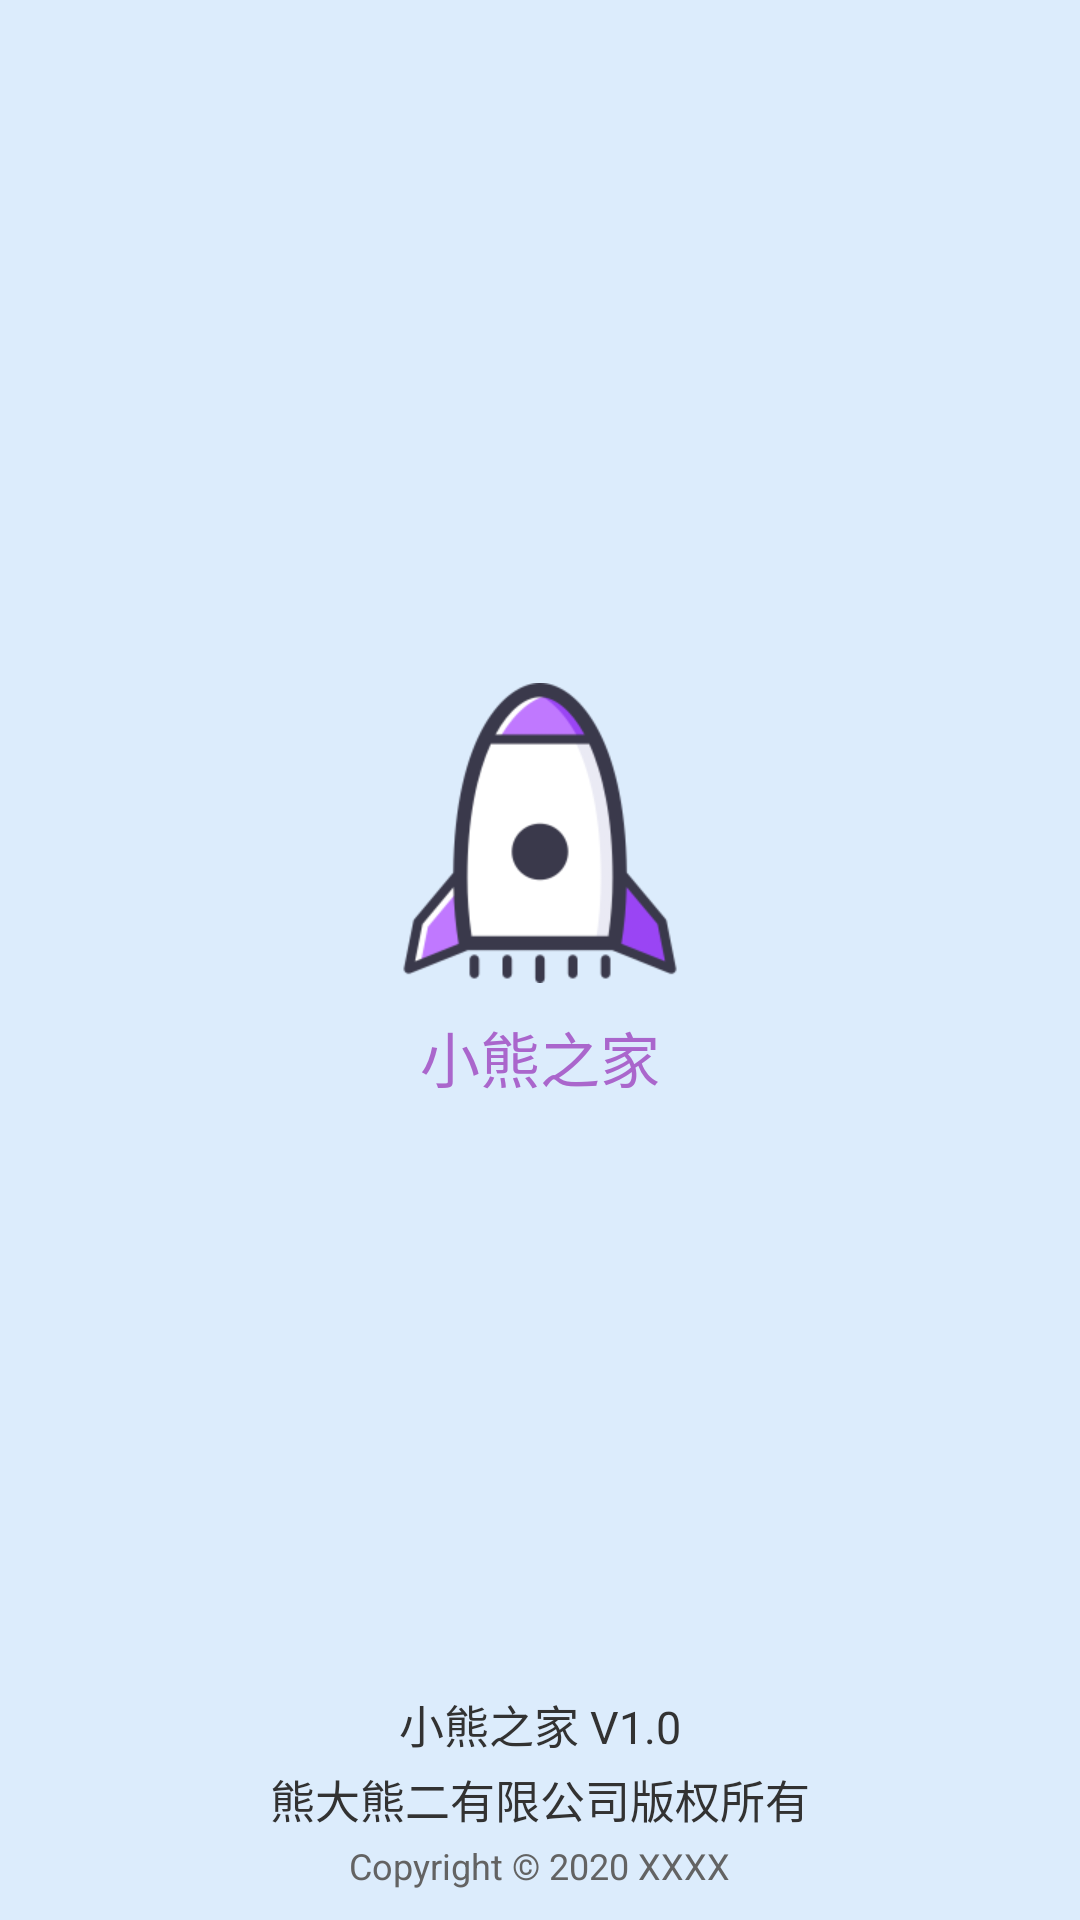

Where to tap for icons on this 1080×1920 app screen, as point (x, y):
huojian: point (540, 833)
